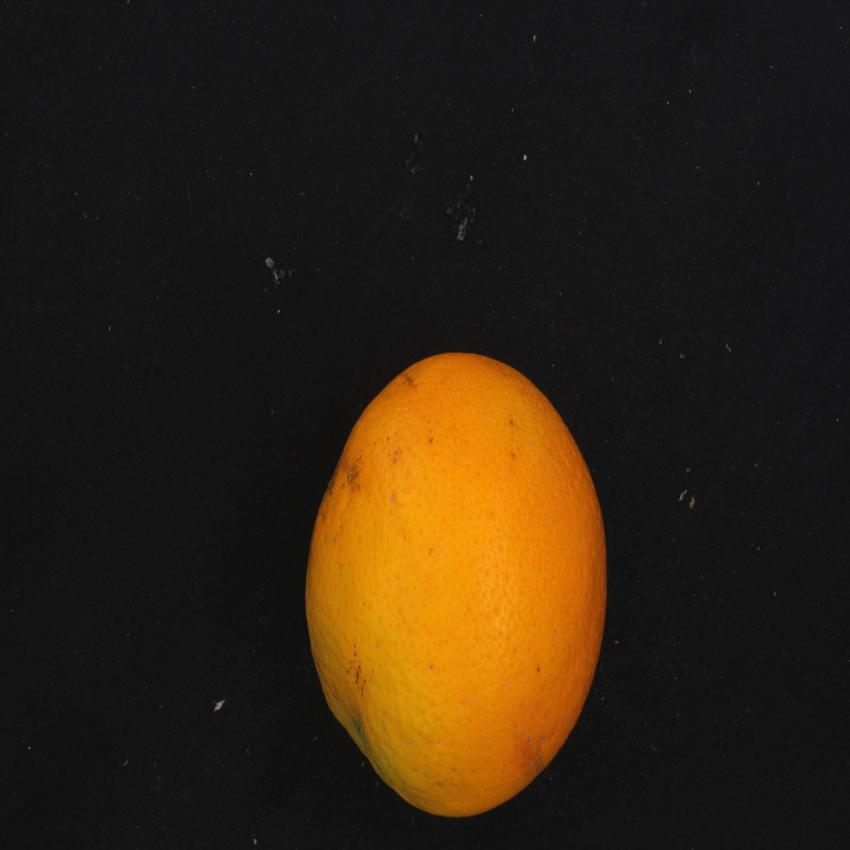Buen estado: (301, 341, 614, 830)
